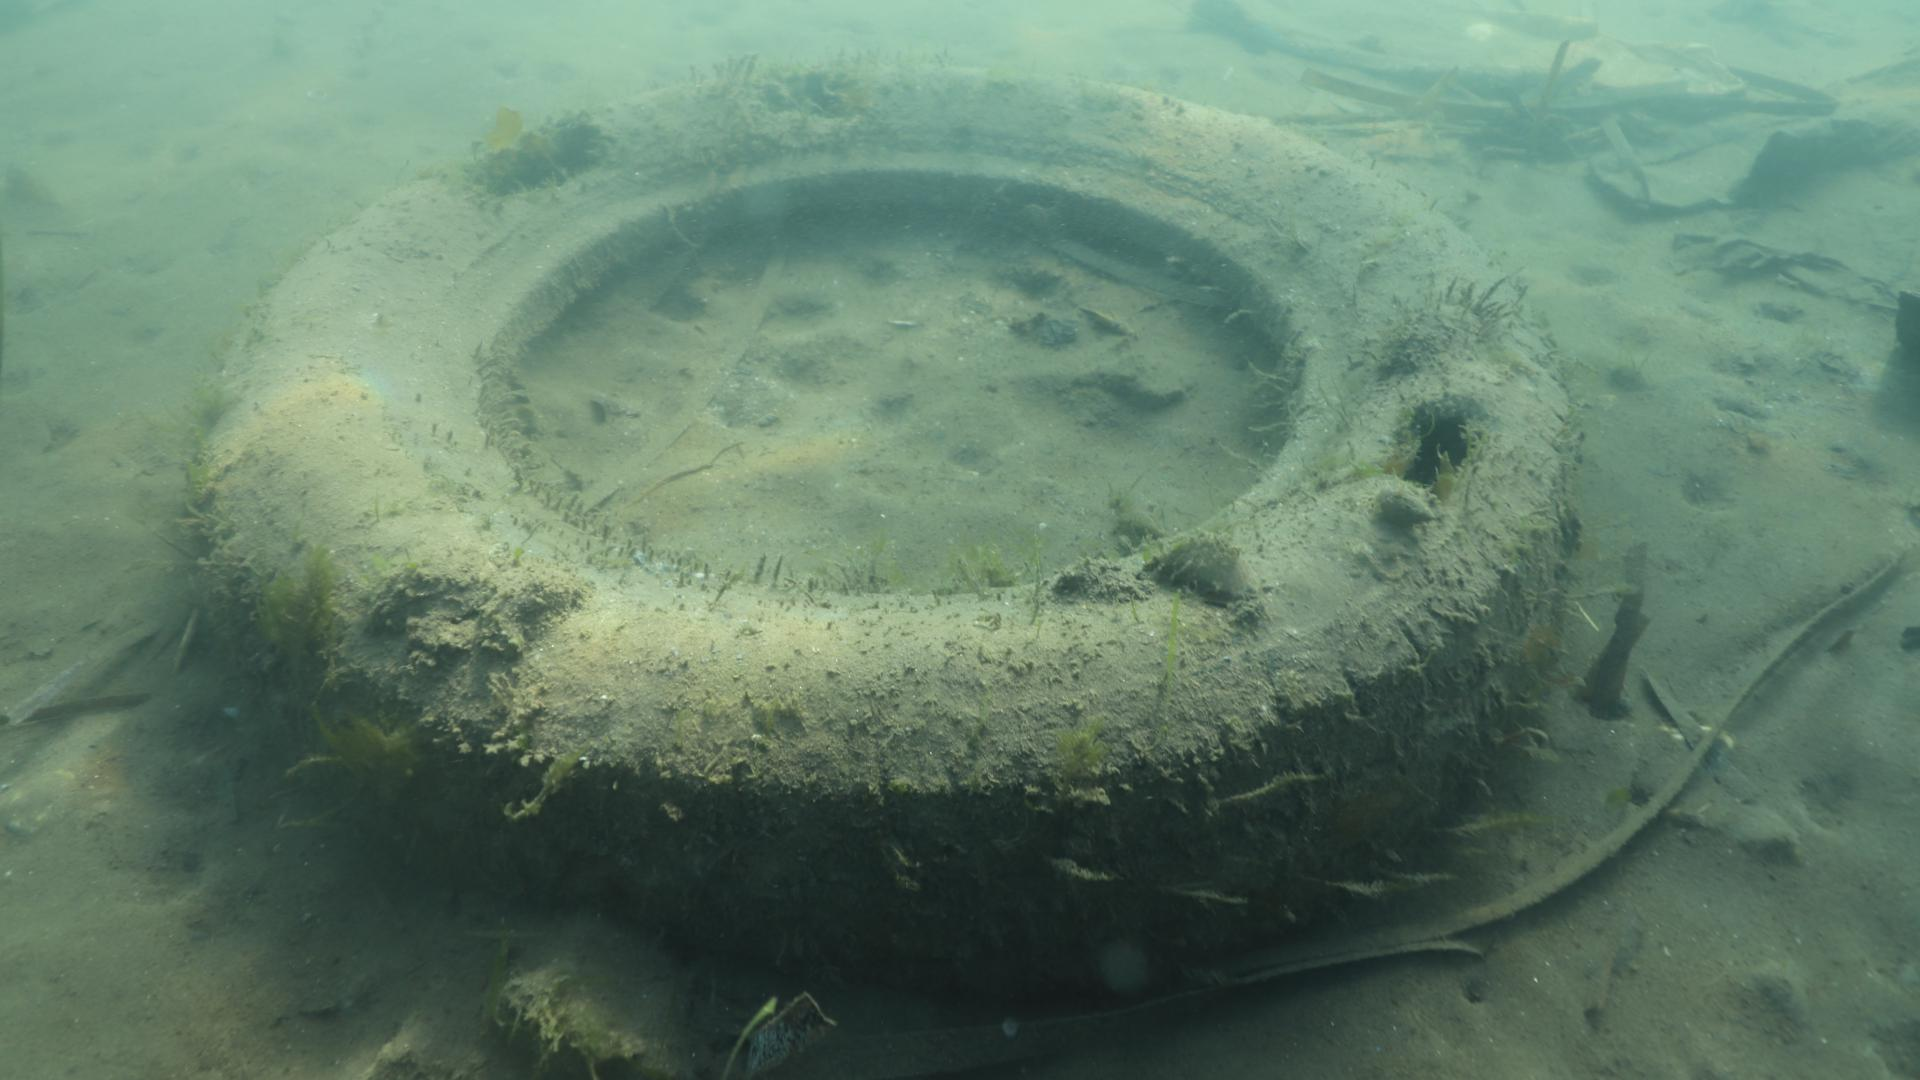tire: (200, 62, 1580, 994)
